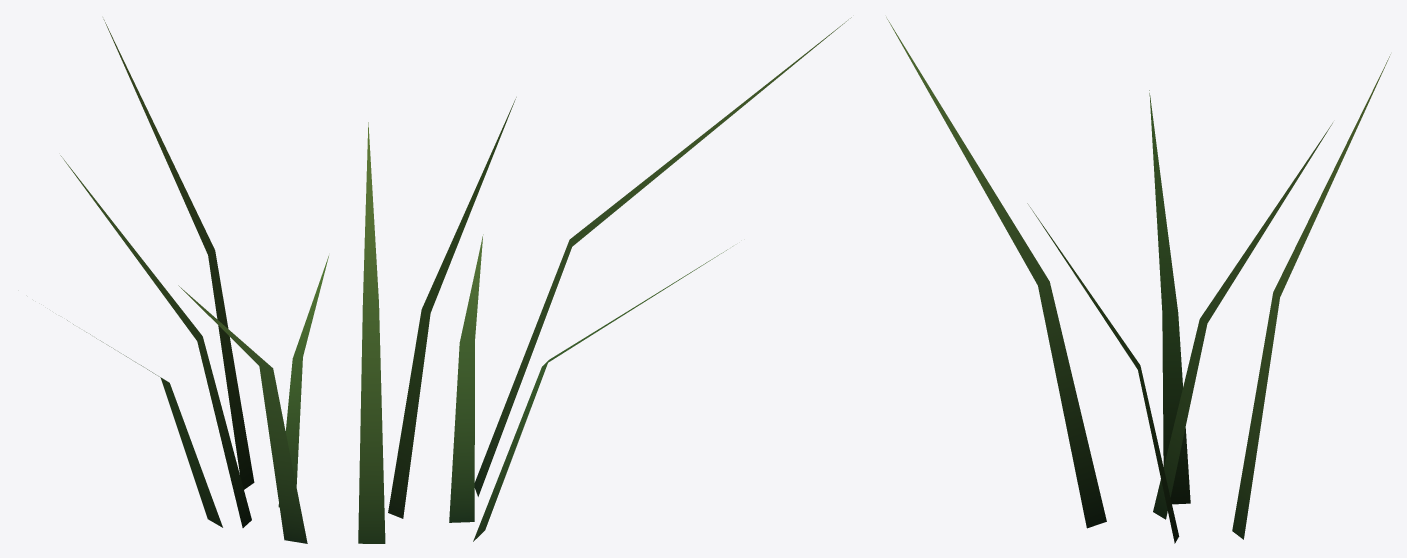
The model's file is grass-broad-b.lod1.glb.
3 renders of one model, left to right at view 1: azimuth 30°, elevation 25°; view 2: azimuth 150°, elevation 25°; view 3: azimuth 270°, elevation 25°, orthographic. The views are drawn at different scales.
Size of the model in its own units: 0.6246 by 0.8842 by 0.9072.
